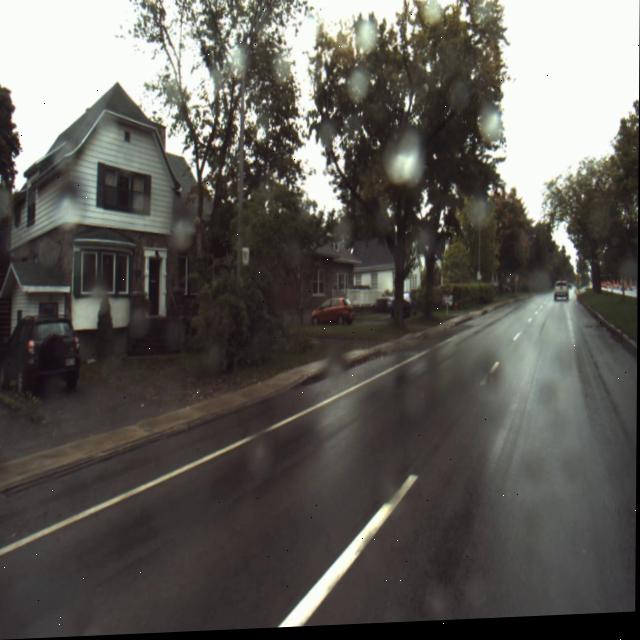car: (3, 312, 82, 395), (311, 300, 355, 332), (553, 284, 570, 307)
